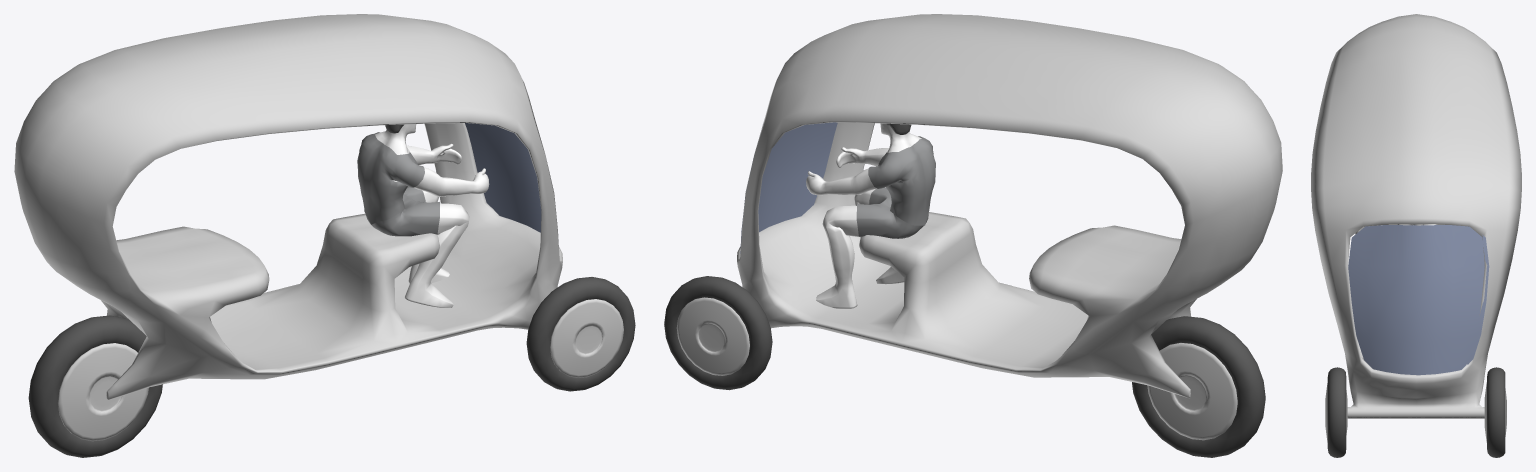
The model's file is TRICYCLE.glb.
The picture shows the model from 3 angles, left to right: view 1: azimuth 30°, elevation 25°; view 2: azimuth 150°, elevation 25°; view 3: azimuth 270°, elevation 25°; orthographic projection. The views are drawn at different scales.
Visible parts, largest first — view 1: body, sanlun_6, sanlun_3, sanlun_2, sanlun_5; view 2: body, sanlun_6, sanlun_2, sanlun_3, sanlun_5; view 3: body, sanlun_5, sanlun_6.
Boxes of the visible parts, box(x1,y1,x2,y2) form: body: box(14, 14, 623, 441); sanlun_6: box(28, 277, 635, 457); sanlun_3: box(357, 132, 439, 236); sanlun_2: box(375, 124, 489, 307); sanlun_5: box(465, 123, 541, 232); body: box(676, 14, 1282, 440); sanlun_6: box(664, 276, 1265, 457); sanlun_2: box(806, 123, 921, 308); sanlun_3: box(856, 136, 935, 238); sanlun_5: box(740, 122, 837, 253); body: box(1311, 14, 1521, 442); sanlun_5: box(1348, 225, 1489, 375); sanlun_6: box(1327, 367, 1505, 457).
Size of the model in its own units: 3.04 by 1.98 by 1.33.
